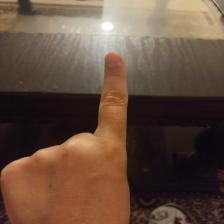one: (6, 53, 143, 217)
